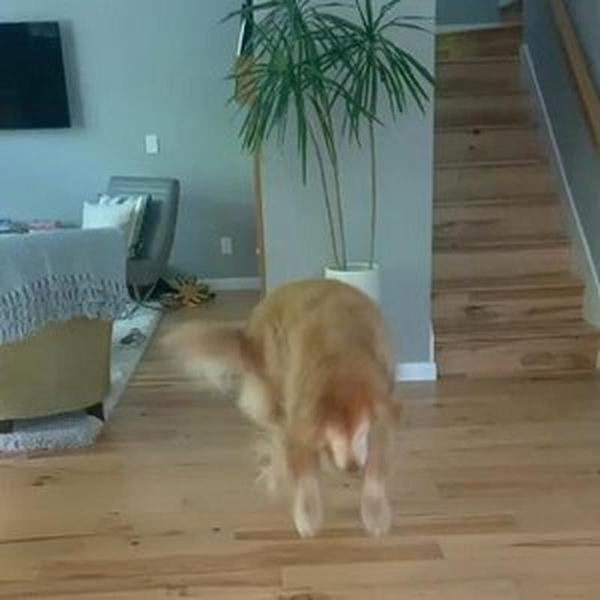allqu: (146, 267, 438, 554)
